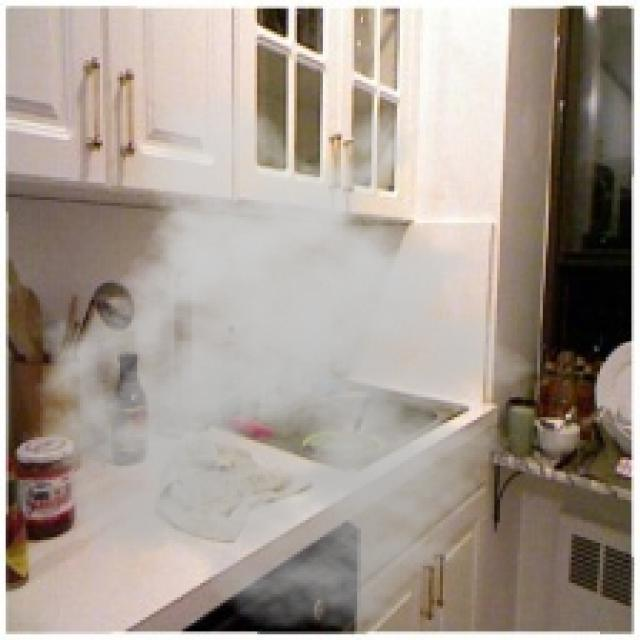smoke: (6, 89, 563, 632)
